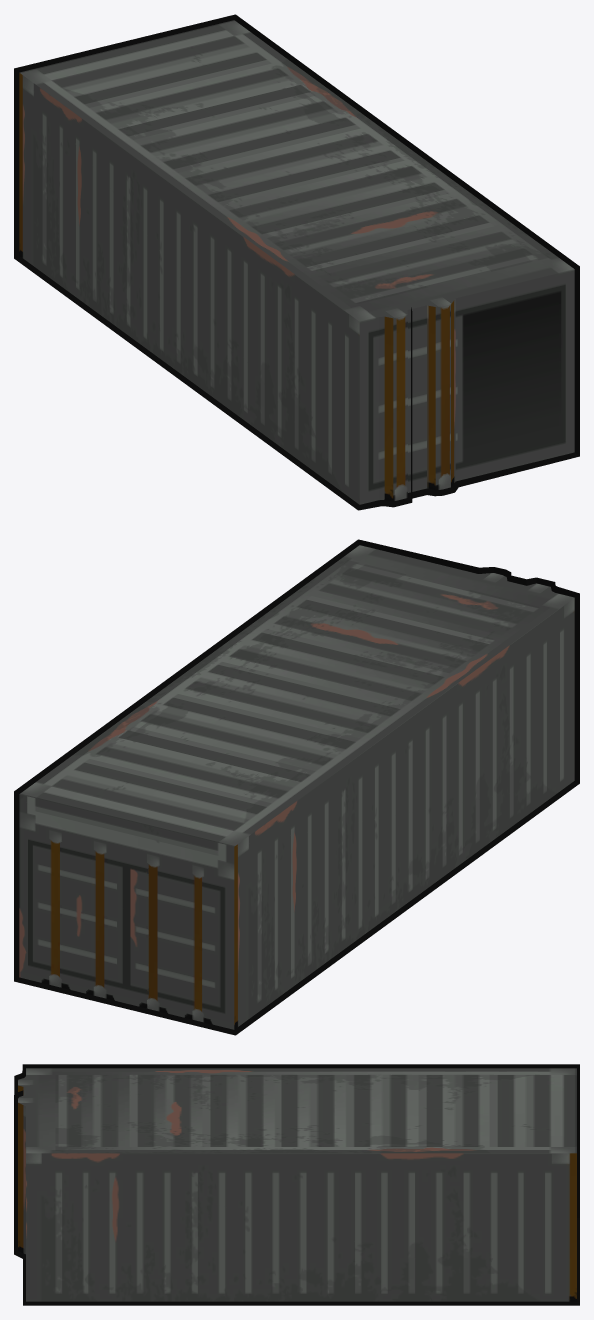
Rendered from Building_AncientMediumContainer_Things_Building_Ancient_Shipping_AncientContainer_AncientContainerB.glb.
3 renders of one model, top to bottom at view 1: azimuth 30°, elevation 25°; view 2: azimuth 150°, elevation 25°; view 3: azimuth 270°, elevation 25°, orthographic. The views are drawn at different scales.
Parts seen in each view (by area): view 1: Body, Outline; view 2: Body, Outline; view 3: Body, Outline.
Part boxes in pixels (<box>): Body: <box>19,20,574,504</box>; Outline: <box>14,14,579,510</box>; Body: <box>19,545,574,1029</box>; Outline: <box>14,539,579,1035</box>; Body: <box>18,1068,576,1301</box>; Outline: <box>14,1064,579,1305</box>.
Size of the model in its own units: 1.8 by 1.5 by 4.93.
2 materials, 1 textured.
